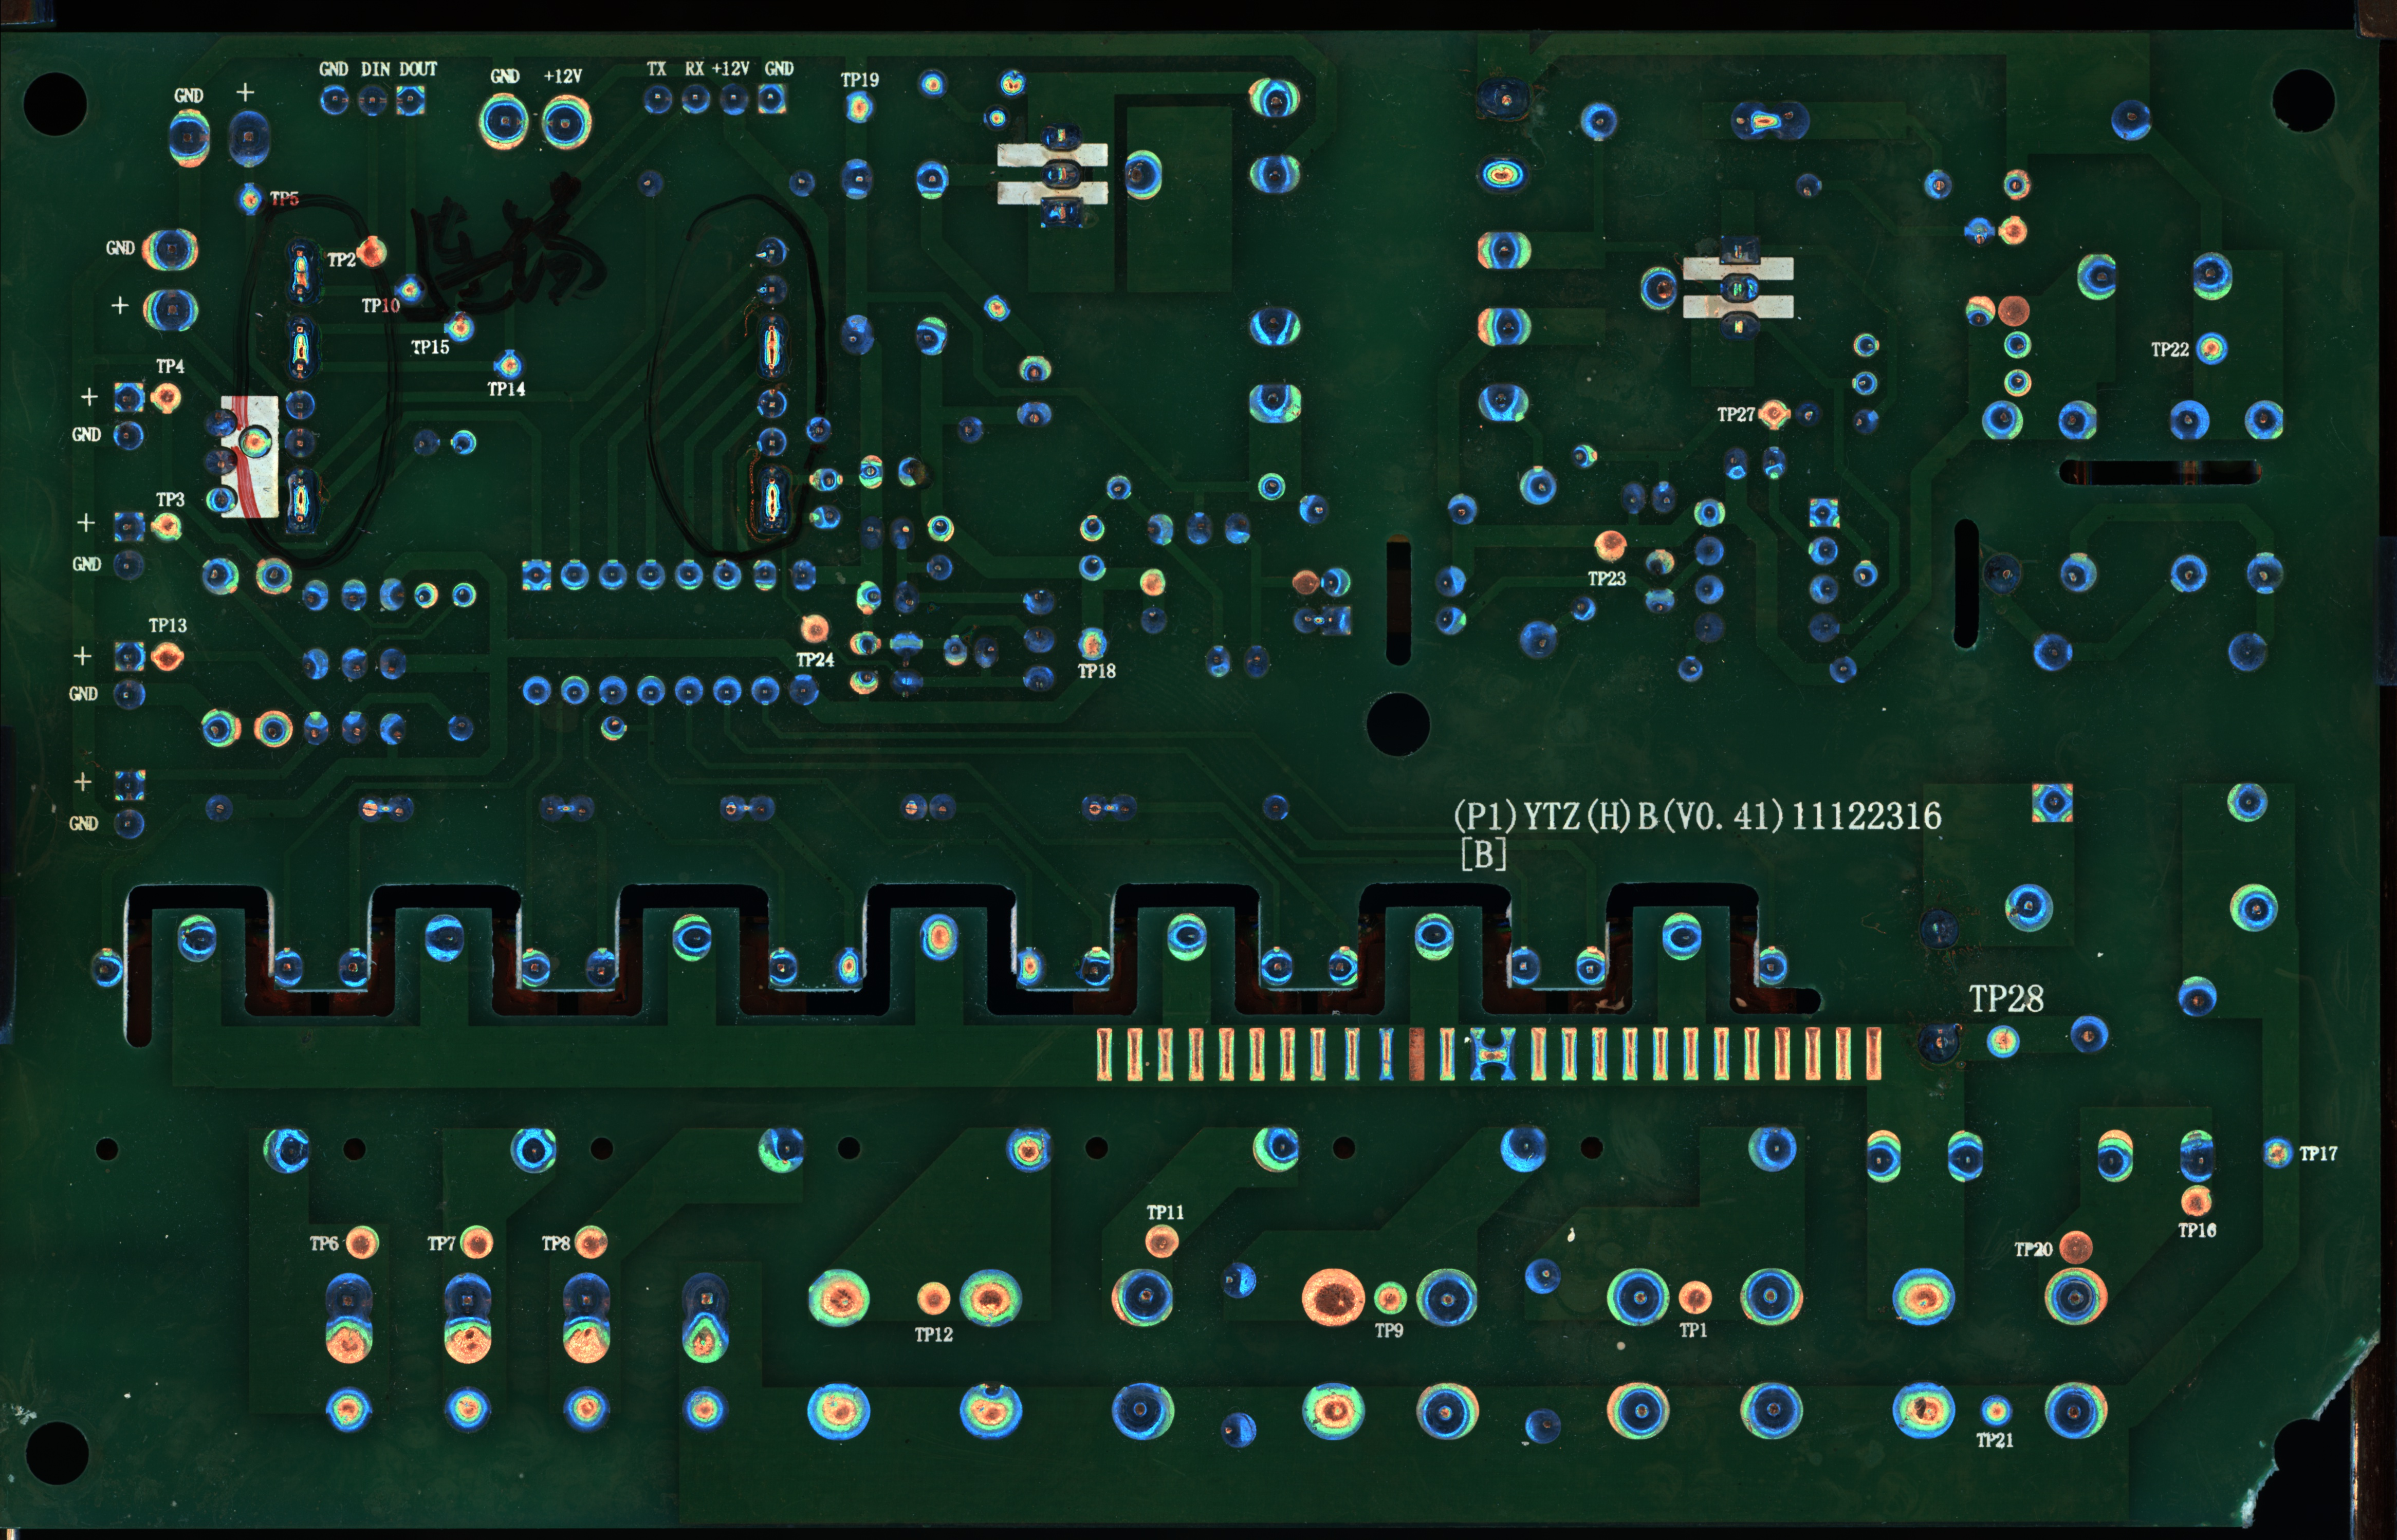continuous tin: (280, 464, 325, 538), (281, 313, 323, 388), (281, 234, 323, 307), (751, 461, 791, 534), (755, 309, 790, 384)
